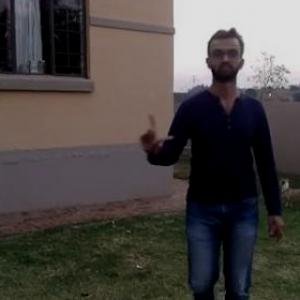land_hand: (131, 112, 168, 156)
